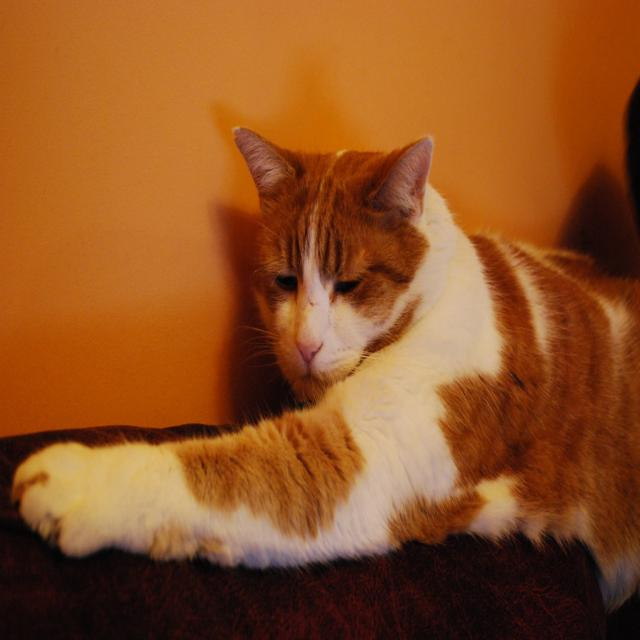Cat: (9, 122, 639, 613)
